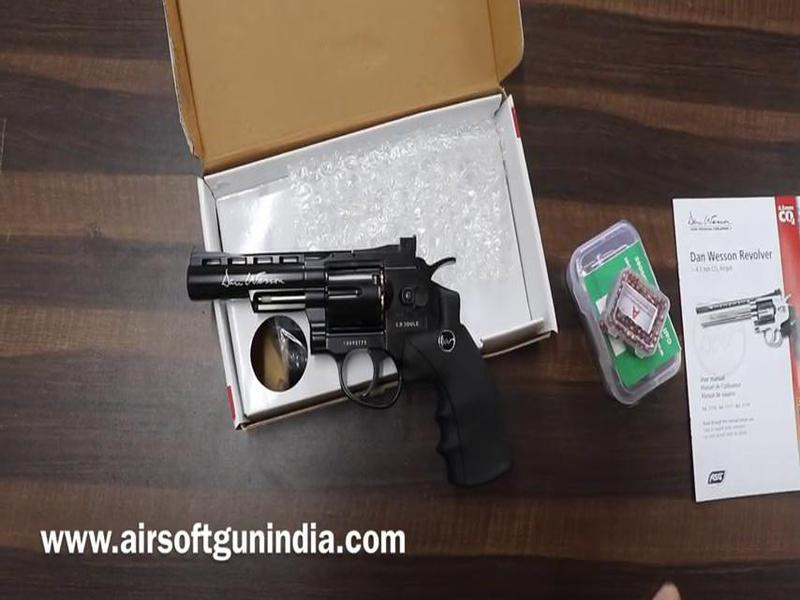Revolver: (180, 213, 527, 501)
